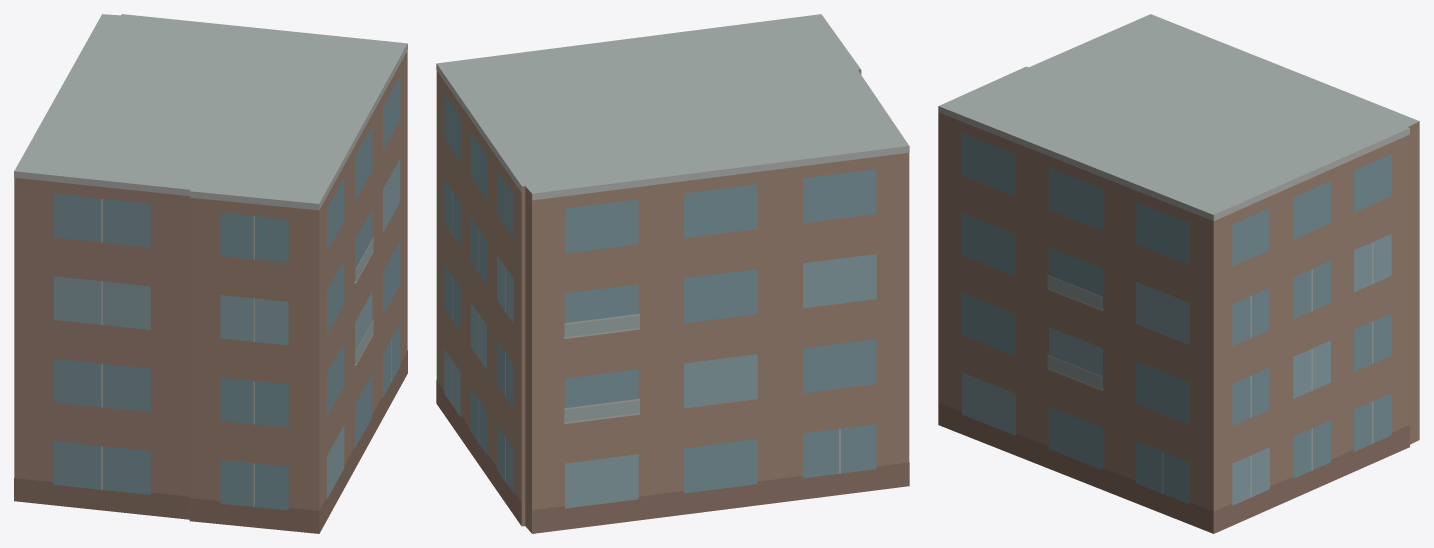
The model's file is survey-upis-32838041.glb.
3 renders of one model, left to right at view 1: azimuth 30°, elevation 25°; view 2: azimuth 150°, elevation 25°; view 3: azimuth 270°, elevation 25°, orthographic. The views are drawn at different scales.
Parts seen in each view (by area): view 1: survey-upis-32838041.tmp; view 2: survey-upis-32838041.tmp; view 3: survey-upis-32838041.tmp.
Part boxes in pixels (<box>): survey-upis-32838041.tmp: <box>14,14,407,533</box>; survey-upis-32838041.tmp: <box>436,14,909,533</box>; survey-upis-32838041.tmp: <box>938,14,1419,533</box>.
Bounding box in the file's own units: 16.84 × 12.45 × 17.03.
